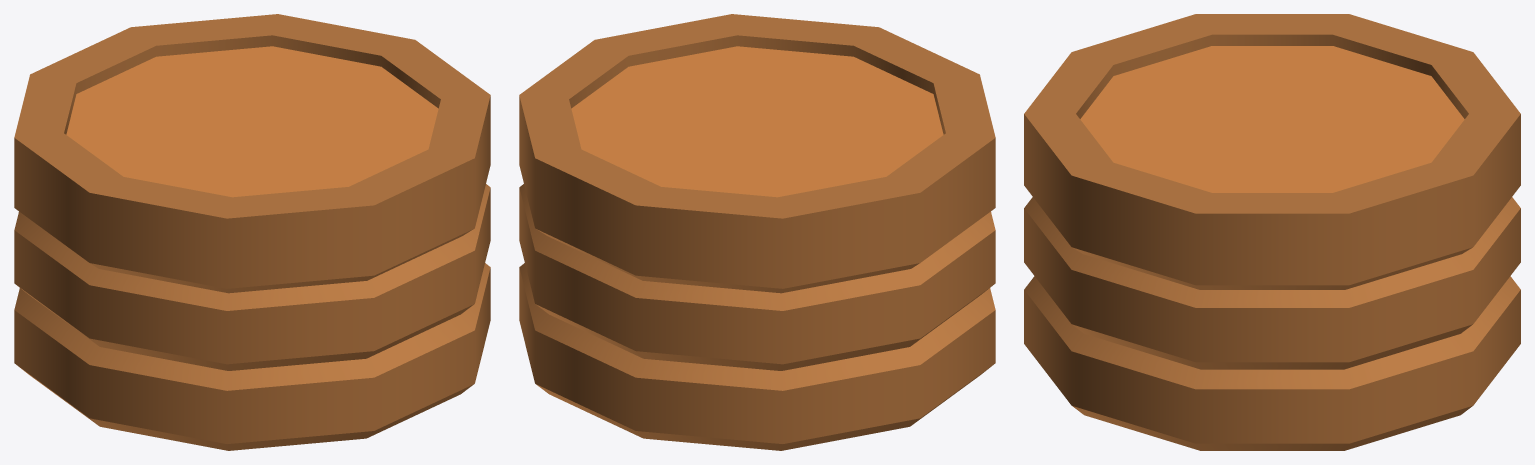
The model's file is Coin_Tower_01.fbx.
3 renders of one model, left to right at view 1: azimuth 30°, elevation 25°; view 2: azimuth 150°, elevation 25°; view 3: azimuth 270°, elevation 25°, orthographic. The views are drawn at different scales.
Parts seen in each view (by area): view 1: Coin_Tower_01; view 2: Coin_Tower_01; view 3: Coin_Tower_01.
Part boxes in pixels (x1,y1,x2,y2): Coin_Tower_01: (14, 14, 490, 450); Coin_Tower_01: (519, 14, 995, 450); Coin_Tower_01: (1024, 14, 1520, 450).
Size of the model in its own units: 0.0413 by 0.0235 by 0.0435.
